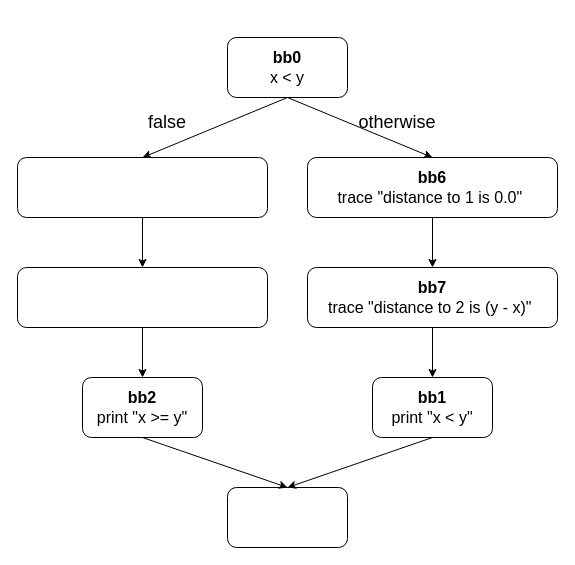
Image size: 575x565. Some labels were removed from this diagram. Here are the shapes that lost their labels. From the top down, the box of each, then its label:
(16, 156, 268, 218): bb4 trace "distance to 2 is 0.0"
(16, 266, 268, 328): bb5 trace "distance to 1 is x - y + 1.0"
(226, 486, 348, 548): next blocks
